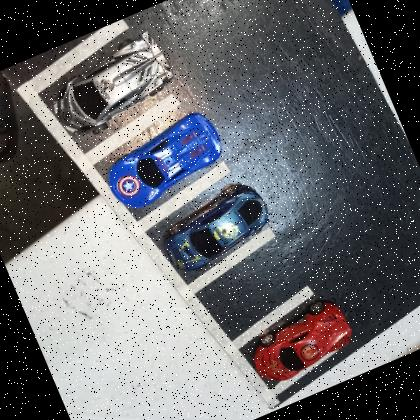Car: (37, 26, 187, 147), (96, 105, 236, 218), (150, 174, 282, 280), (239, 292, 362, 392)
